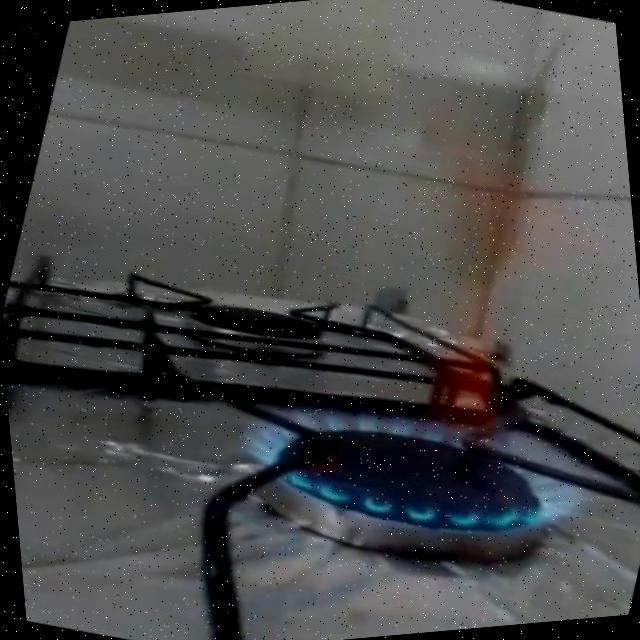fire: (180, 44, 640, 586)
